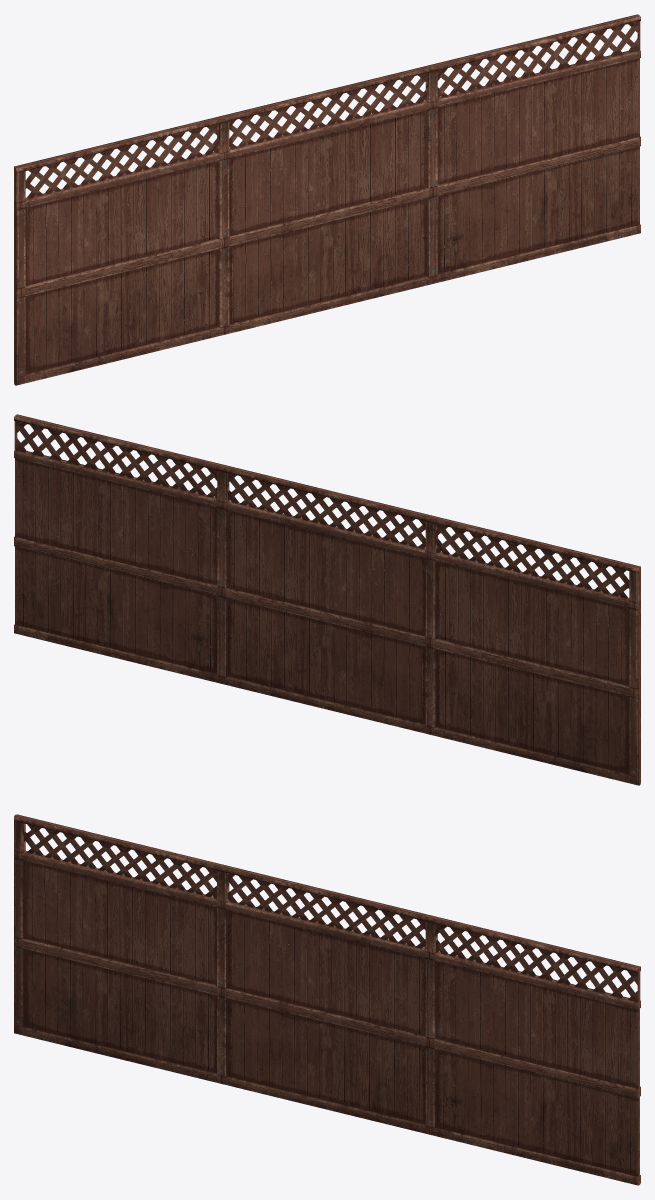
Rendered from Wooden_Fence_02.fbx.
3 views of the same model, one above another, from view 1: azimuth 30°, elevation 25°; view 2: azimuth 150°, elevation 25°; view 3: azimuth 330°, elevation 25° (orthographic).
Visible parts, largest first — view 1: Wooden_Fence_02_LOD0; view 2: Wooden_Fence_02_LOD0; view 3: Wooden_Fence_02_LOD0.
Boxes of the visible parts, x1,y1,x2,y2 form: Wooden_Fence_02_LOD0: [14, 14, 640, 385]; Wooden_Fence_02_LOD0: [14, 414, 640, 785]; Wooden_Fence_02_LOD0: [14, 814, 640, 1185].
Size of what is drawn, in the model's own units: 600 by 200 by 5.6.
